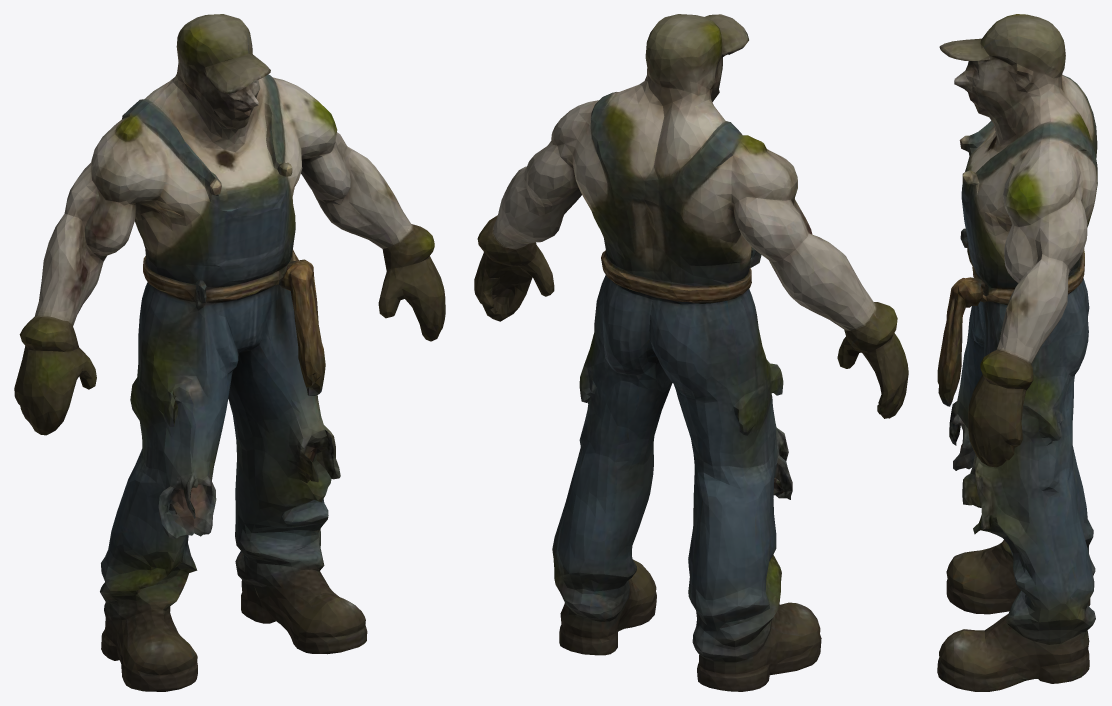
Rendered from zombie_brute.glb.
The picture shows the model from 3 angles, left to right: view 1: azimuth 30°, elevation 25°; view 2: azimuth 150°, elevation 25°; view 3: azimuth 270°, elevation 25°; orthographic projection. The views are drawn at different scales.
Visible parts, largest first — view 1: geometry_0; view 2: geometry_0; view 3: geometry_0.
Part boxes in pixels (x1=…): geometry_0: x1=14, y1=14, x2=445, y2=691; geometry_0: x1=474, y1=14, x2=908, y2=691; geometry_0: x1=937, y1=14, x2=1097, y2=691.
Size of the model in its own units: 0.7029 by 0.9994 by 0.2365.
1 material, 1 textured.
